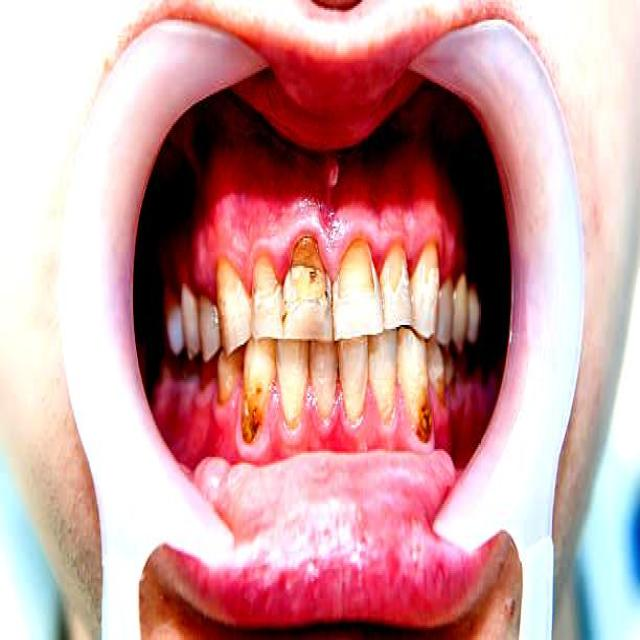caries: (282, 234, 331, 309), (333, 235, 376, 303), (250, 253, 279, 304), (382, 242, 405, 295), (419, 238, 441, 288)
